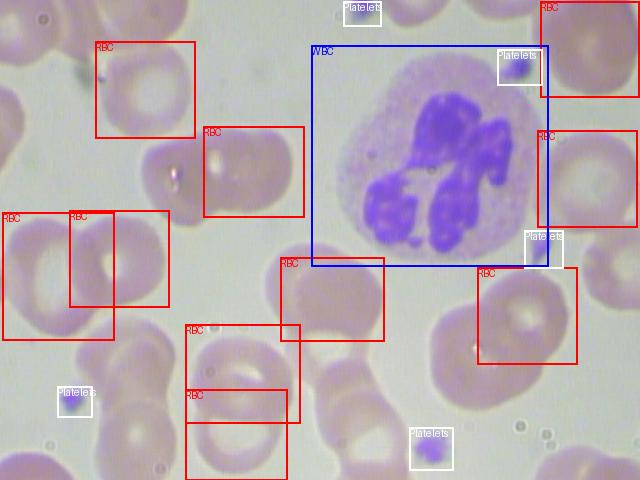Platelets: (409, 427, 453, 470), (497, 49, 542, 85), (524, 230, 563, 268), (57, 386, 92, 417), (343, 1, 381, 26)
RBC: (2, 212, 114, 340), (185, 324, 300, 423), (95, 41, 195, 138), (69, 210, 169, 307), (537, 130, 637, 227), (477, 267, 577, 364), (540, 1, 639, 97), (185, 389, 287, 480), (203, 126, 304, 217), (280, 257, 384, 341)
WBC: (311, 45, 548, 266)
